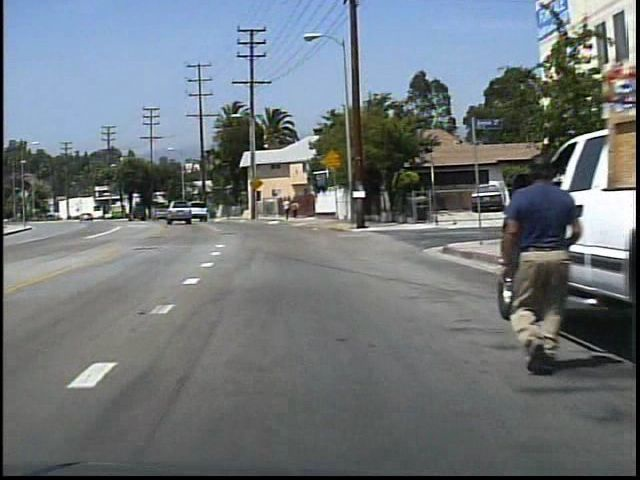person: (491, 154, 572, 373), (281, 197, 291, 221), (290, 199, 300, 221)
